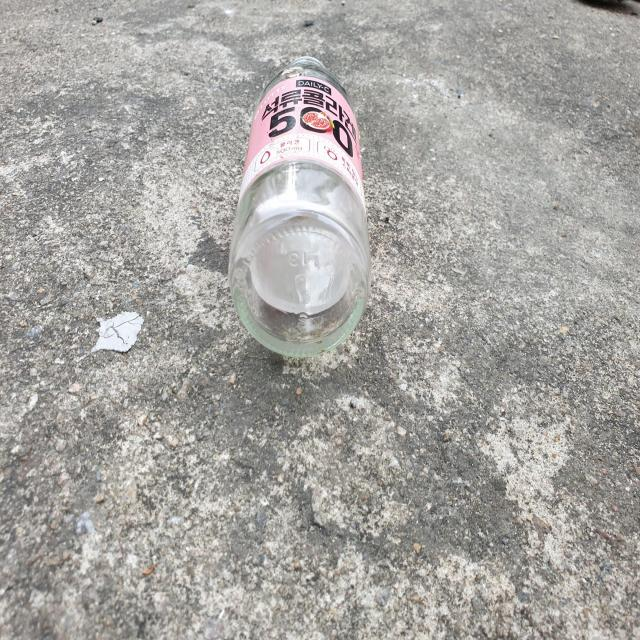glass: (229, 55, 371, 357)
